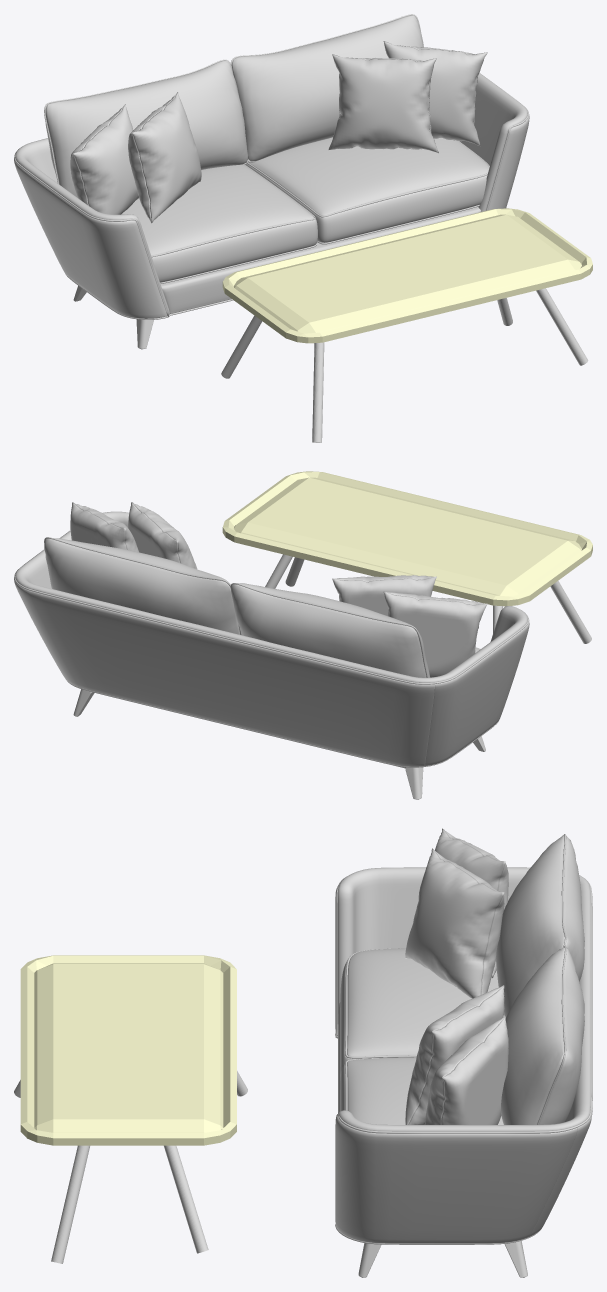
Rendered from sofa.fbx.
3 renders of one model, top to bottom at view 1: azimuth 30°, elevation 25°; view 2: azimuth 150°, elevation 25°; view 3: azimuth 270°, elevation 25°, orthographic. The views are drawn at different scales.
Parts seen in each view (by area): view 1: Seat part, Plane, Cylinder.001, Cylinder.002, Cylinder; view 2: Seat part, Plane, Leg part, Cylinder.001; view 3: Seat part, Plane, Cylinder.002, Cylinder.003, Leg part.
Part boxes in pixels (<box>): Seat part: <box>14,14,529,319</box>; Plane: <box>222,208,592,343</box>; Cylinder.001: <box>312,342,324,442</box>; Cylinder.002: <box>536,288,588,365</box>; Cylinder: <box>221,315,262,378</box>; Seat part: <box>14,502,529,767</box>; Plane: <box>222,471,592,606</box>; Leg part: <box>73,689,485,799</box>; Cylinder.001: <box>550,581,591,643</box>; Seat part: <box>335,828,592,1244</box>; Plane: <box>20,955,236,1145</box>; Cylinder.002: <box>51,1145,89,1263</box>; Cylinder.003: <box>164,1145,208,1253</box>; Leg part: <box>358,1240,527,1277</box>.
Bounding box in the file's own units: 229 × 96.36 × 212.
